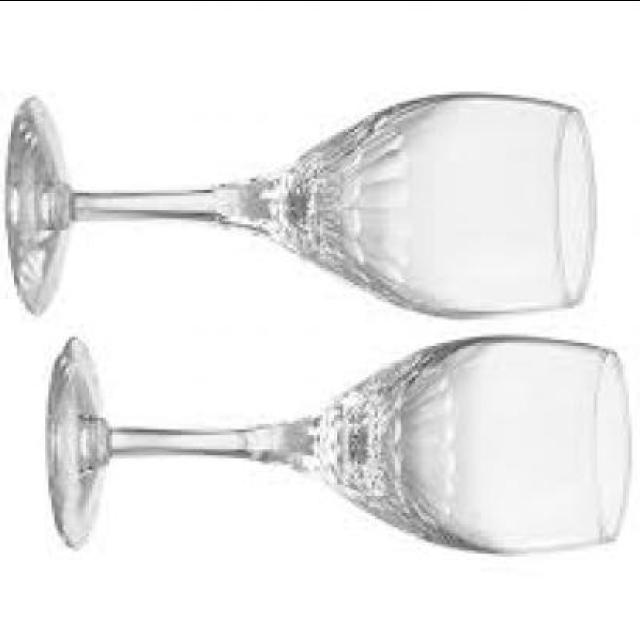kaca: (8, 92, 596, 317), (51, 331, 634, 553)
